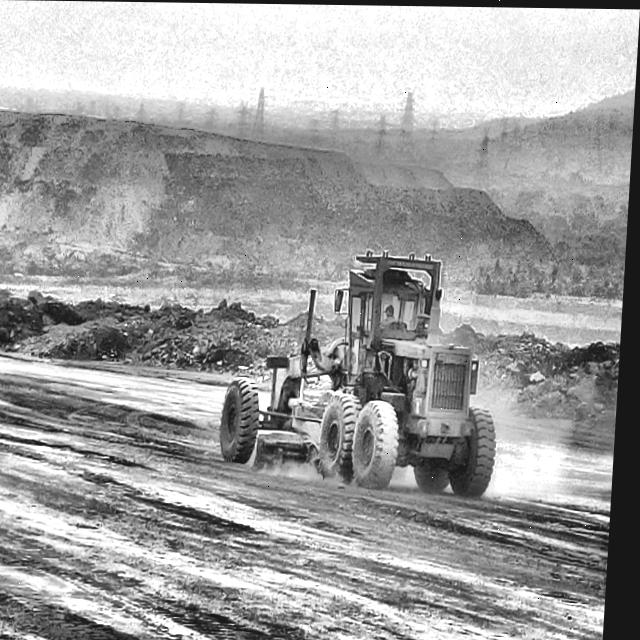buldozerpayloadergrader: (225, 251, 502, 496)
